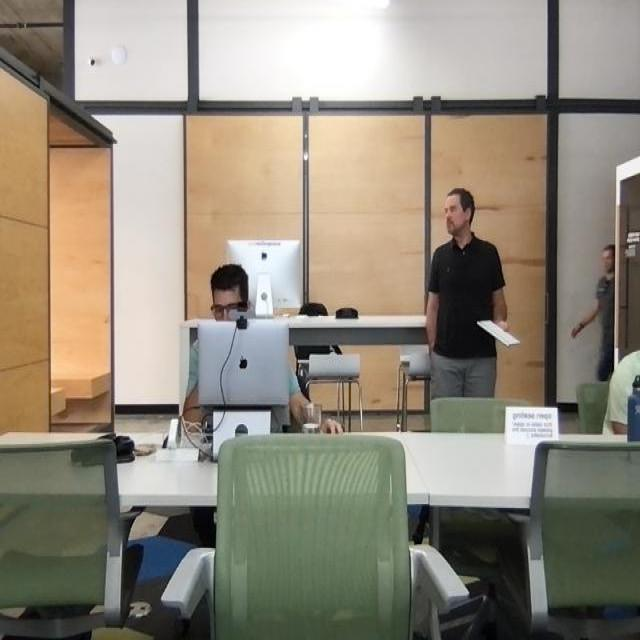face: (442, 185, 480, 243), (211, 274, 248, 322), (601, 240, 618, 280)
